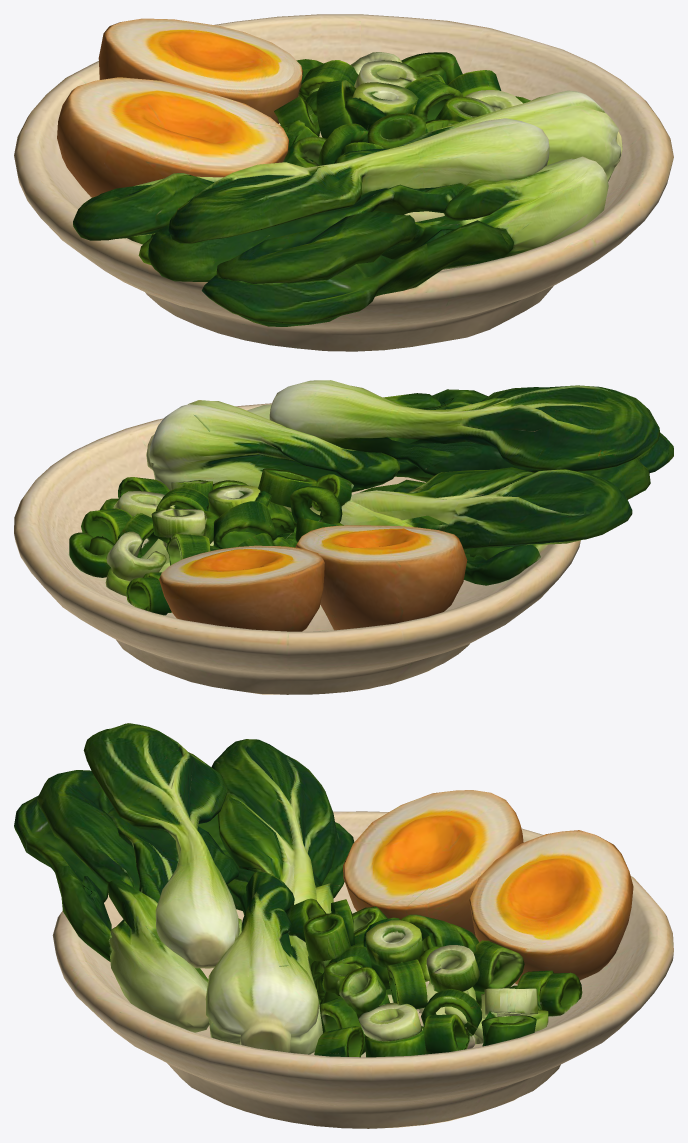
File: SM_Garnish.fbx
3 views of the same model, one above another, from view 1: azimuth 30°, elevation 25°; view 2: azimuth 150°, elevation 25°; view 3: azimuth 270°, elevation 25° (orthographic). The views are drawn at different scales.
Parts seen in each view (by area): view 1: SM_Garnish; view 2: SM_Garnish; view 3: SM_Garnish.
Part boxes in pixels (bbox=[...]): SM_Garnish: bbox=[14, 14, 673, 351]; SM_Garnish: bbox=[14, 380, 673, 694]; SM_Garnish: bbox=[14, 723, 673, 1128].
Size of the model in its own units: 21.9 by 22 by 7.46.
Materials: 1 (1 with a texture image).
